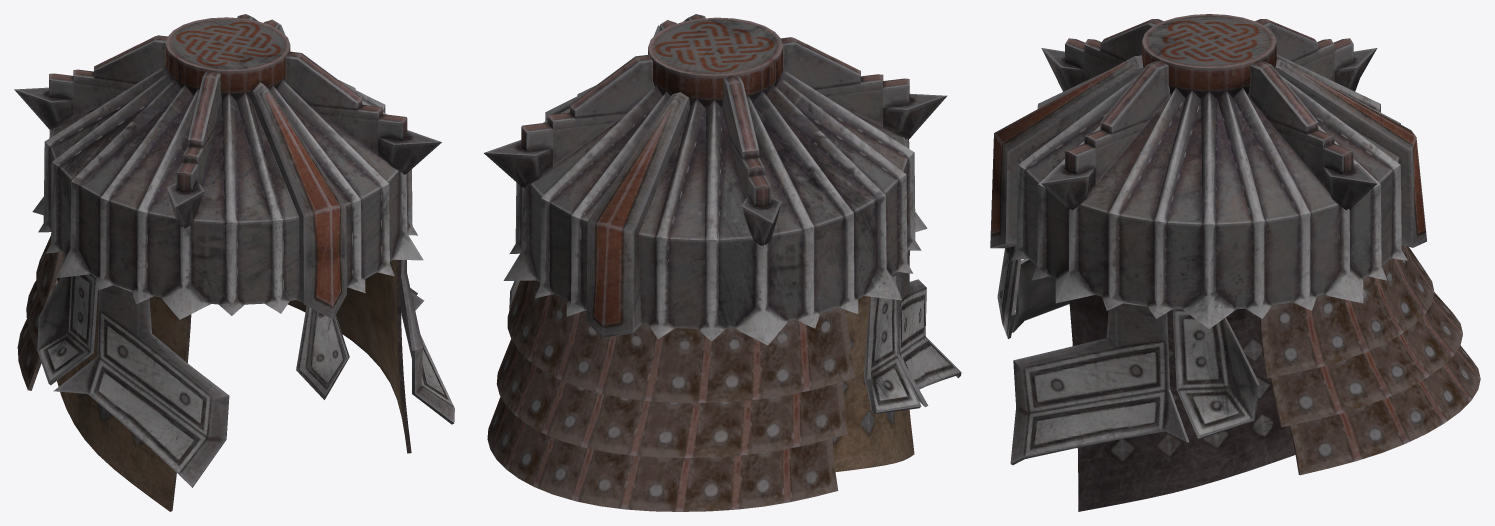
File: sk_dwarf_iron_helmet_heavy_b1.fbx
3 views of the same model, side by side, from view 1: azimuth 30°, elevation 25°; view 2: azimuth 150°, elevation 25°; view 3: azimuth 270°, elevation 25° (orthographic). The views are drawn at different scales.
Visible parts, largest first — view 1: sk_dwarf_iron_helmet_heavy_b1; view 2: sk_dwarf_iron_helmet_heavy_b1; view 3: sk_dwarf_iron_helmet_heavy_b1.
Boxes of the visible parts, bbox=[...] form: sk_dwarf_iron_helmet_heavy_b1: bbox=[14, 14, 454, 511]; sk_dwarf_iron_helmet_heavy_b1: bbox=[484, 14, 961, 511]; sk_dwarf_iron_helmet_heavy_b1: bbox=[990, 14, 1480, 511].
Bounding box in the file's own units: 0.3214 × 0.3525 × 0.325.
